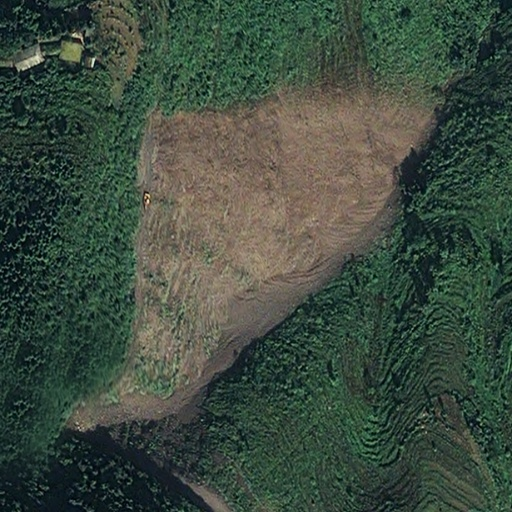landslide: (109, 81, 425, 405)
